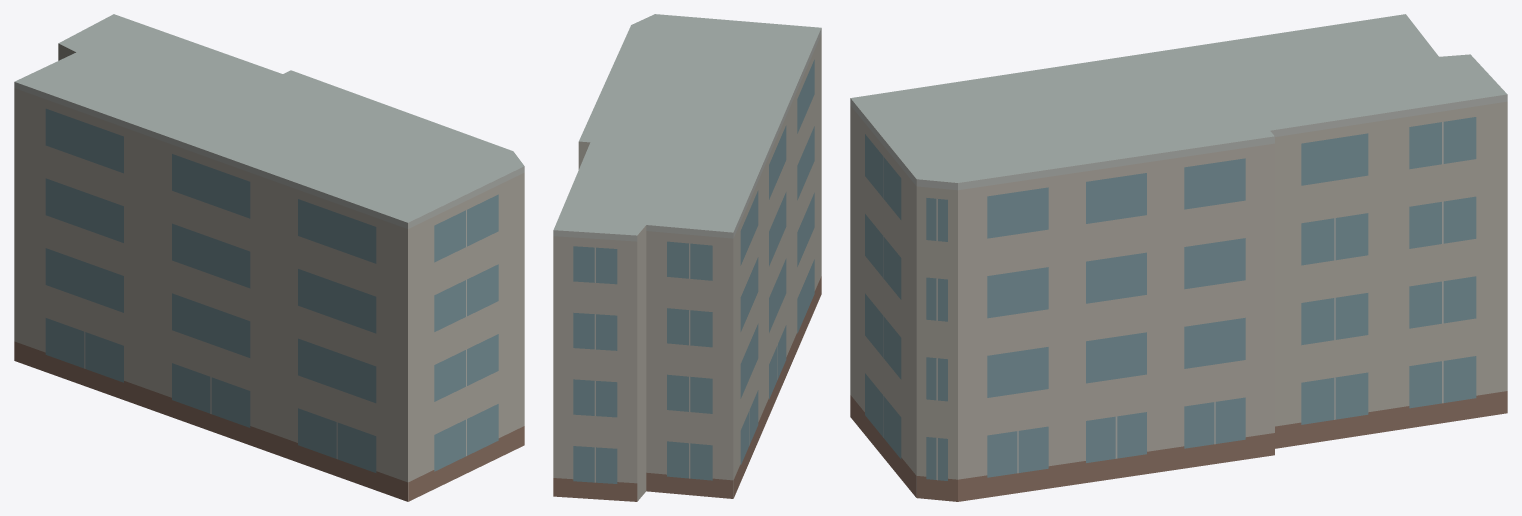
File: survey-upis-32498626.glb
3 renders of one model, left to right at view 1: azimuth 30°, elevation 25°; view 2: azimuth 150°, elevation 25°; view 3: azimuth 270°, elevation 25°, orthographic. The views are drawn at different scales.
Visible parts, largest first — view 1: survey-upis-32498626.tmp; view 2: survey-upis-32498626.tmp; view 3: survey-upis-32498626.tmp.
Part boxes in pixels (x1,y1,x2,y2): survey-upis-32498626.tmp: (14, 14, 524, 501); survey-upis-32498626.tmp: (553, 14, 821, 501); survey-upis-32498626.tmp: (850, 14, 1507, 501).
Bounding box in the file's own units: 12.29 × 10.8 × 20.18.
